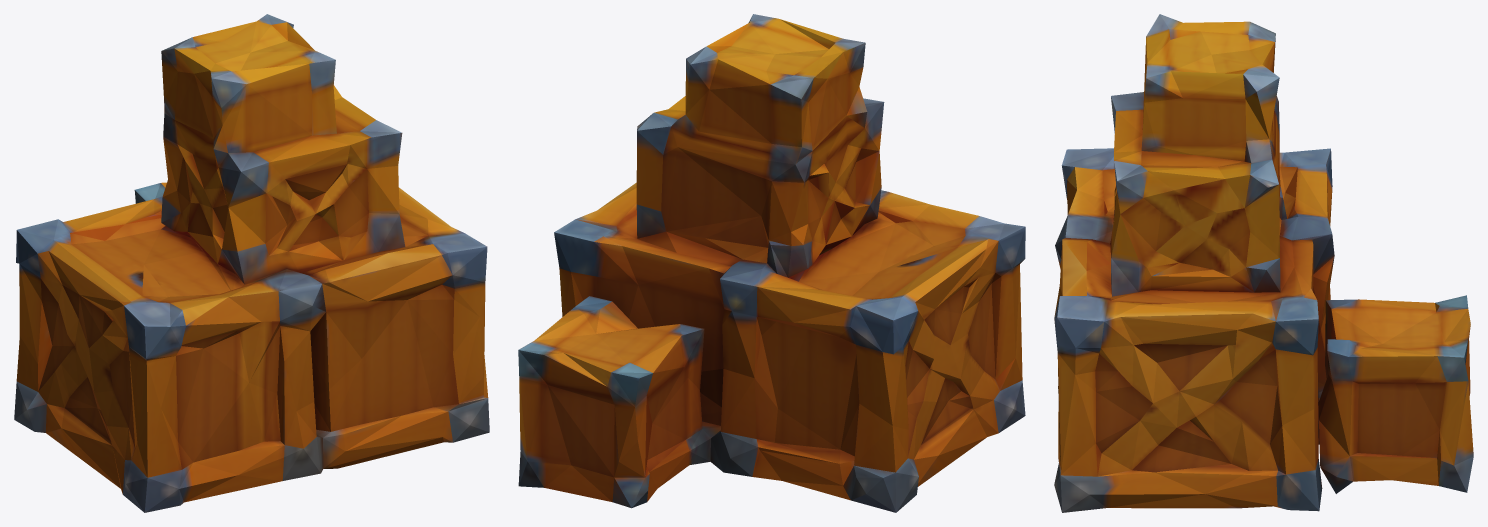
Rendered from crate_stack.glb.
3 renders of one model, left to right at view 1: azimuth 30°, elevation 25°; view 2: azimuth 150°, elevation 25°; view 3: azimuth 270°, elevation 25°, orthographic. The views are drawn at different scales.
Parts seen in each view (by area): view 1: geometry_0; view 2: geometry_0; view 3: geometry_0.
Part boxes in pixels (x1=…): geometry_0: x1=14, y1=14, x2=489, y2=512; geometry_0: x1=518, y1=14, x2=1025, y2=512; geometry_0: x1=1054, y1=14, x2=1473, y2=512.
Bounding box in the file's own units: 0.479 × 0.4948 × 0.4871.
1 material, 1 textured.
